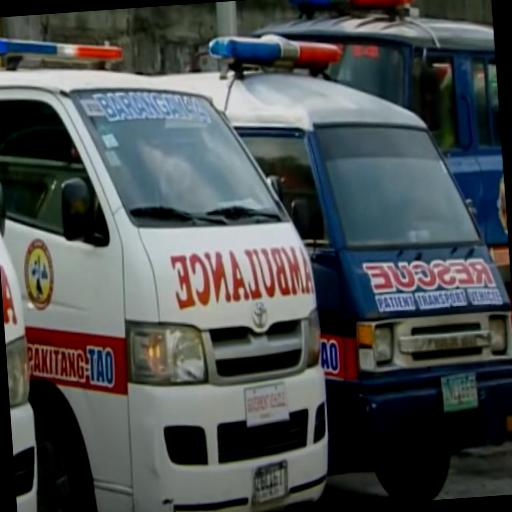Police car: (167, 13, 512, 512), (0, 13, 335, 512)
